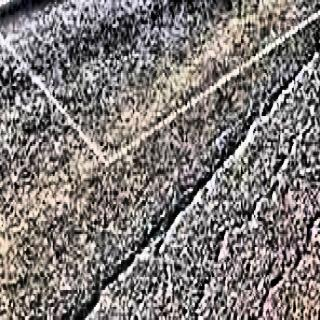crack: (190, 93, 320, 320), (251, 205, 320, 320)
